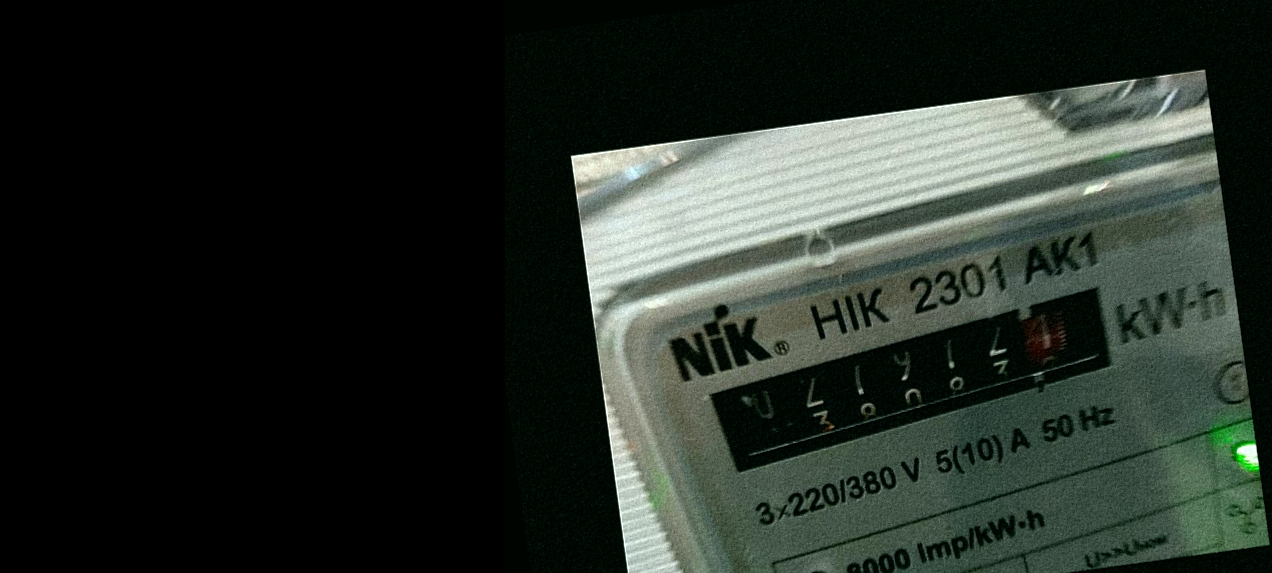0: (748, 383, 780, 422)
1: (1033, 307, 1060, 353)
2: (795, 367, 829, 410), (980, 318, 1013, 358)
7: (934, 329, 965, 374), (844, 358, 872, 398)
9: (890, 345, 920, 383)
screen: (686, 272, 1154, 486)
